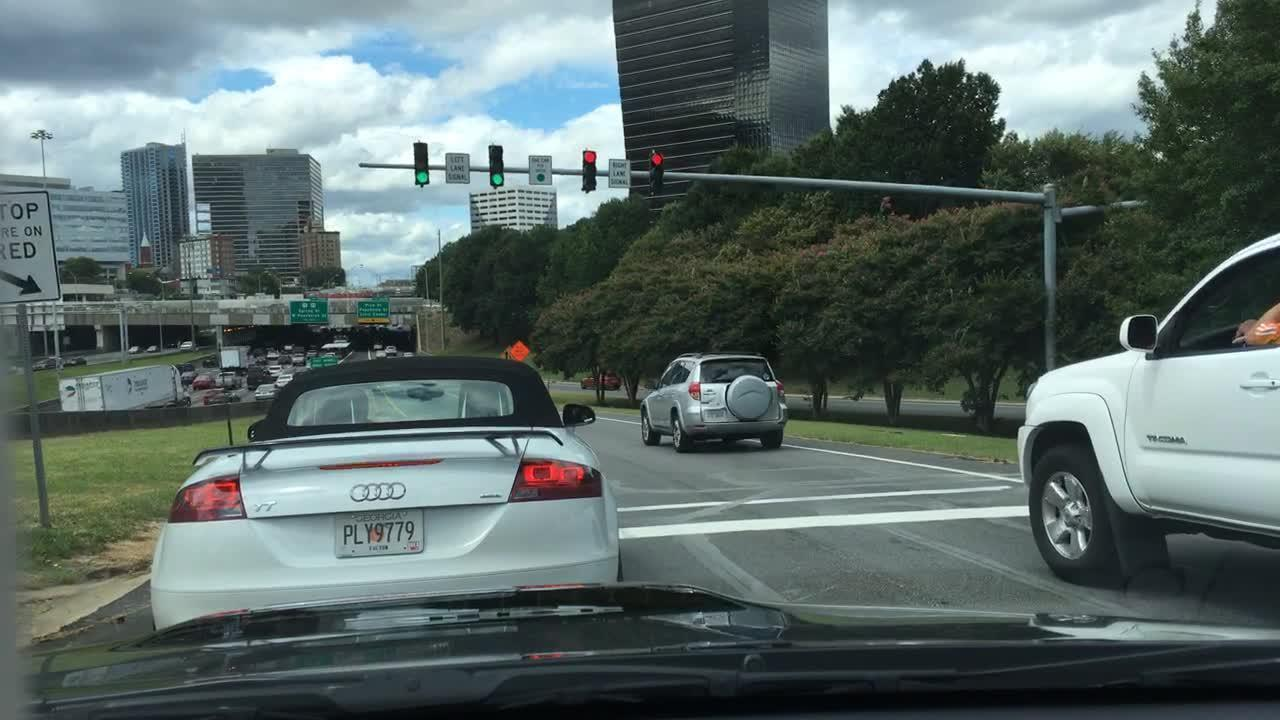Audi: (344, 474, 412, 512)
